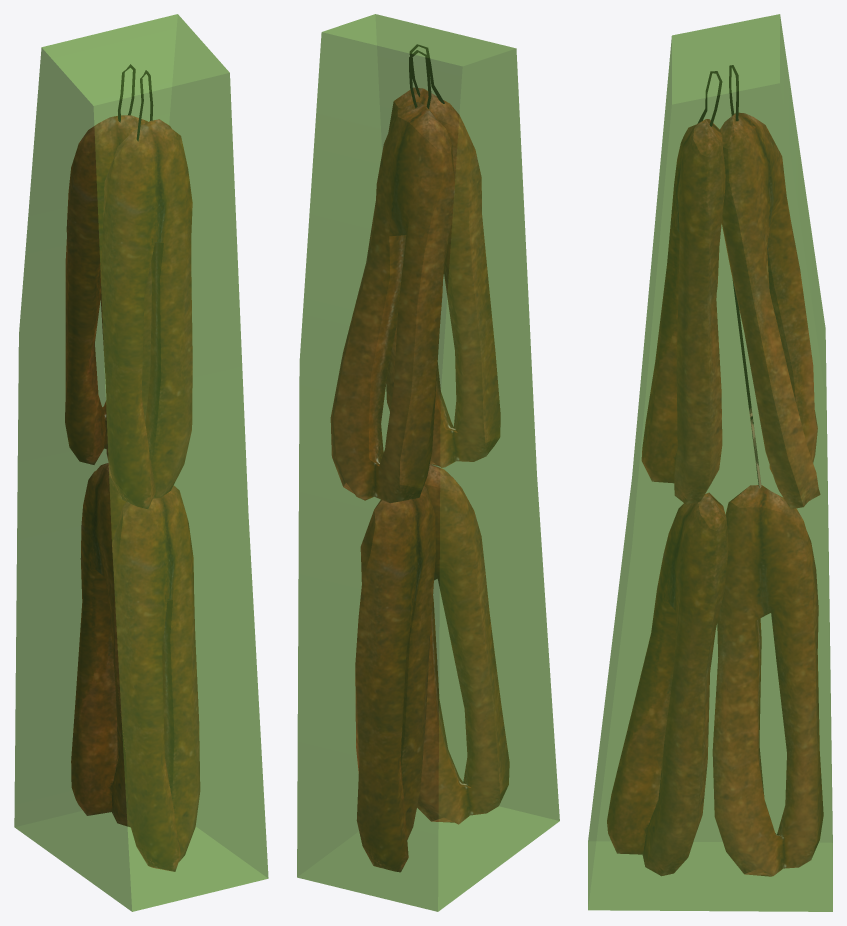
Rendered from pg_Sausage_04.fbx.
3 renders of one model, left to right at view 1: azimuth 30°, elevation 25°; view 2: azimuth 150°, elevation 25°; view 3: azimuth 270°, elevation 25°, orthographic. The views are drawn at different scales.
Parts seen in each view (by area): view 1: pg_Sausage_04_a_col, pg_Sausage_04_a_LOD0; view 2: pg_Sausage_04_a_col, pg_Sausage_04_a_LOD0; view 3: pg_Sausage_04_a_col, pg_Sausage_04_a_LOD0.
Boxes of the visible parts, left/top/right/bottom form: pg_Sausage_04_a_col: left=14, top=14, right=268, bottom=911; pg_Sausage_04_a_LOD0: left=65, top=64, right=200, bottom=871; pg_Sausage_04_a_col: left=297, top=14, right=559, bottom=911; pg_Sausage_04_a_LOD0: left=330, top=44, right=509, bottom=872; pg_Sausage_04_a_col: left=588, top=14, right=832, bottom=911; pg_Sausage_04_a_LOD0: left=607, top=65, right=823, bottom=876.
Size of what is drawn, in the model's own units: 8.48 by 46.89 by 12.54.
